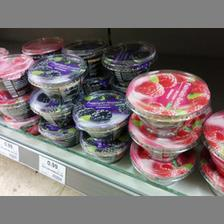Marmelade: (124, 68, 212, 136), (71, 89, 129, 141), (26, 53, 86, 101), (97, 40, 155, 86), (29, 89, 77, 127)
